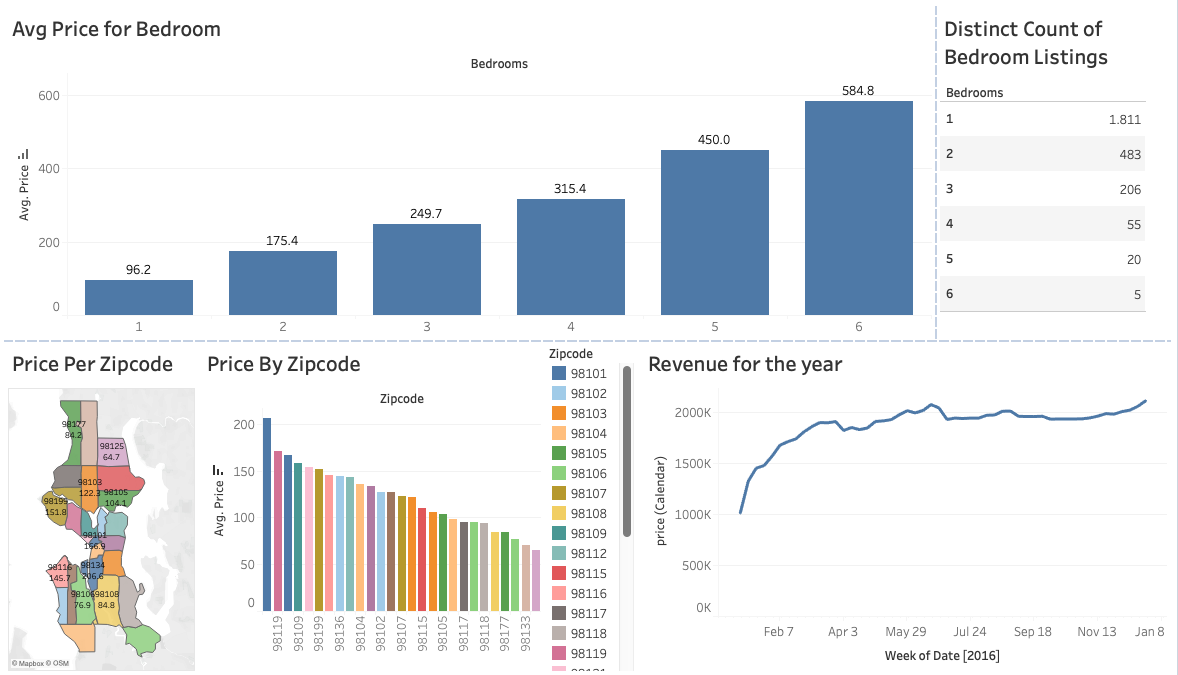

Layout of this report page (visuals, bound fields, positions):
{"tool":"tableau","page":{"name":"Dashboard 1","canvas":[1000,1000],"units":"permille","ordinal":0},"visuals":[{"type":"worksheet","title":"Sheet 7","mark":"Automatic","rows":["price"],"cols":["bedrooms"],"box":[6.8,11.7,800.5,488.3]},{"type":"worksheet","title":"Sheet 8","mark":"Automatic","rows":["bedrooms"],"box":[807.3,11.7,186,488.3]},{"type":"worksheet","title":"Sheet 5","mark":"Multipolygon","box":[6.8,500,129.7,488.3]},{"type":"worksheet","title":"Sheet 4","mark":"Automatic","rows":["price"],"cols":["zipcode"],"box":[136.5,500,279.4,488.3]},{"type":"legend","title":"Sheet 4","param":"[federated.0de2a7s03qthm813a2pvn1jj3ncc].[none:zipcode:ok]","box":[415.9,500,109.9,488.3]},{"type":"worksheet","title":"Sheet 6","mark":"Automatic","rows":["price (Calendar)"],"cols":["date"],"box":[525.8,500,467.5,488.3]}]}

Visuals, with their boxes on the dashboard's canvas, which has no fixed pixel size, in thousandths of its width and height (x1, y1, x2, y2). These are canvas units, not pixel positions in the 1178x675 screenshot, which may show the page scaled, cropped or inside an application window:
"Sheet 7" worksheet: box(7, 12, 807, 500)
"Sheet 8" worksheet: box(807, 12, 993, 500)
"Sheet 5" worksheet (Multipolygon marks): box(7, 500, 136, 988)
"Sheet 4" worksheet: box(136, 500, 416, 988)
"Sheet 4" legend: box(416, 500, 526, 988)
"Sheet 6" worksheet: box(526, 500, 993, 988)
